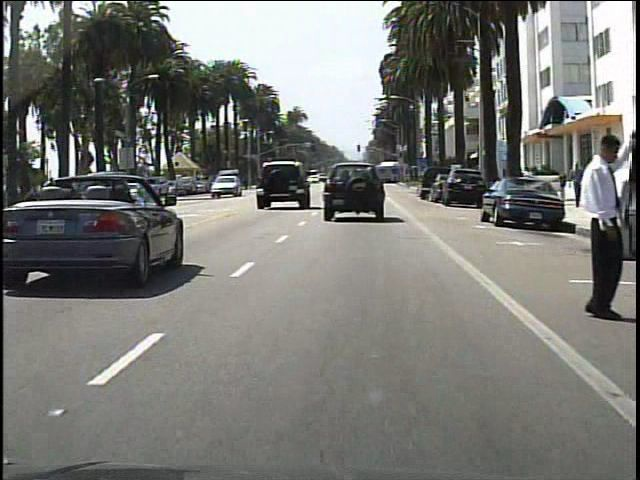person: (566, 125, 621, 326)
